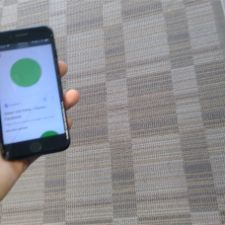focus: (9, 55, 40, 93)
